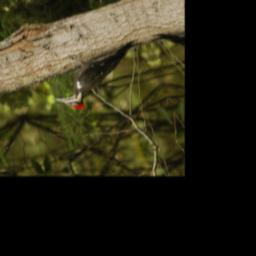Woodpecker: (36, 35, 159, 117)
